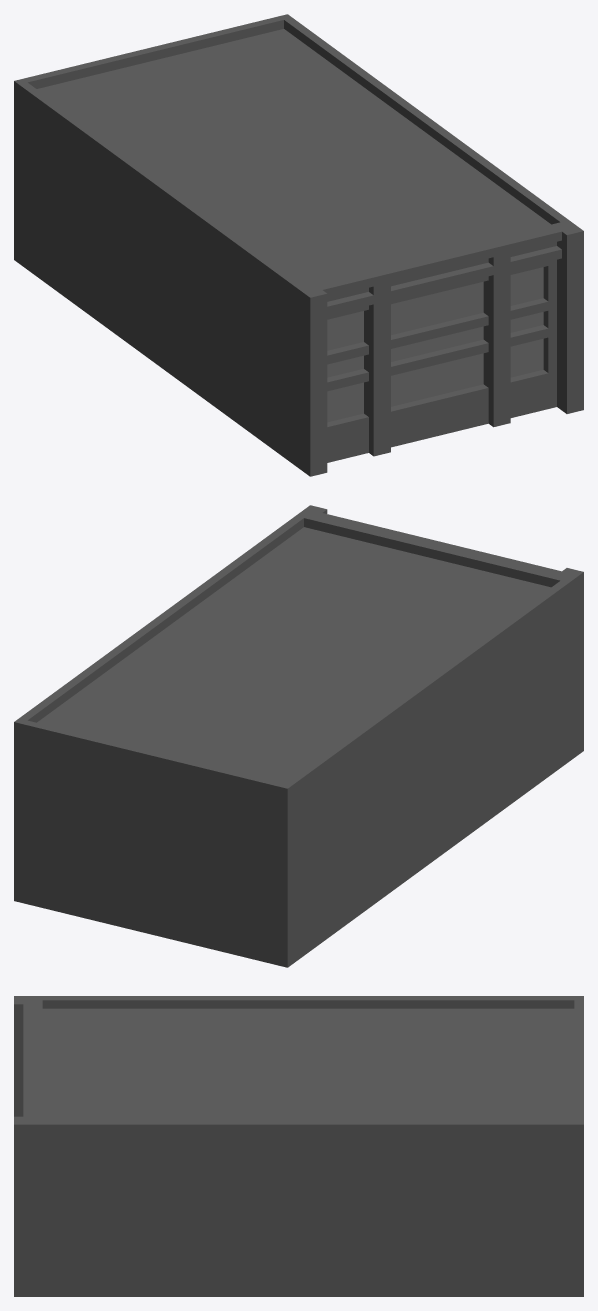
File: bld_story05.obj
3 views of the same model, one above another, from view 1: azimuth 30°, elevation 25°; view 2: azimuth 150°, elevation 25°; view 3: azimuth 270°, elevation 25° (orthographic). The views are drawn at different scales.
Bounding box in the file's own units: 32 × 20 × 60.
